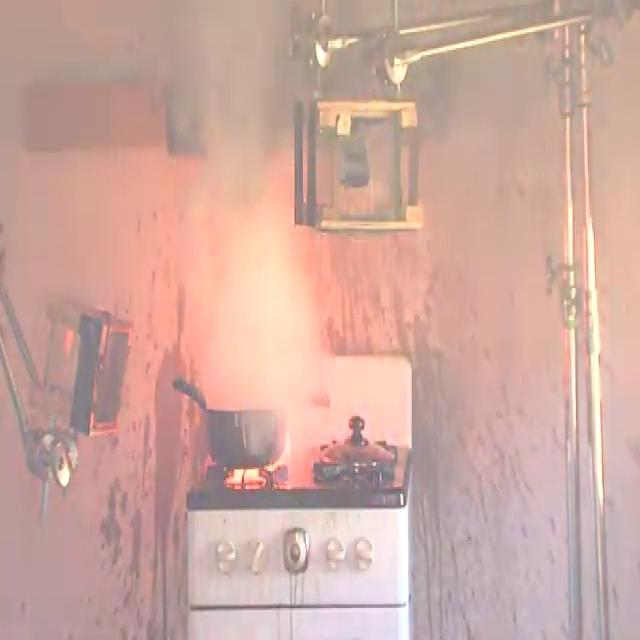fire: (195, 425, 316, 491)
